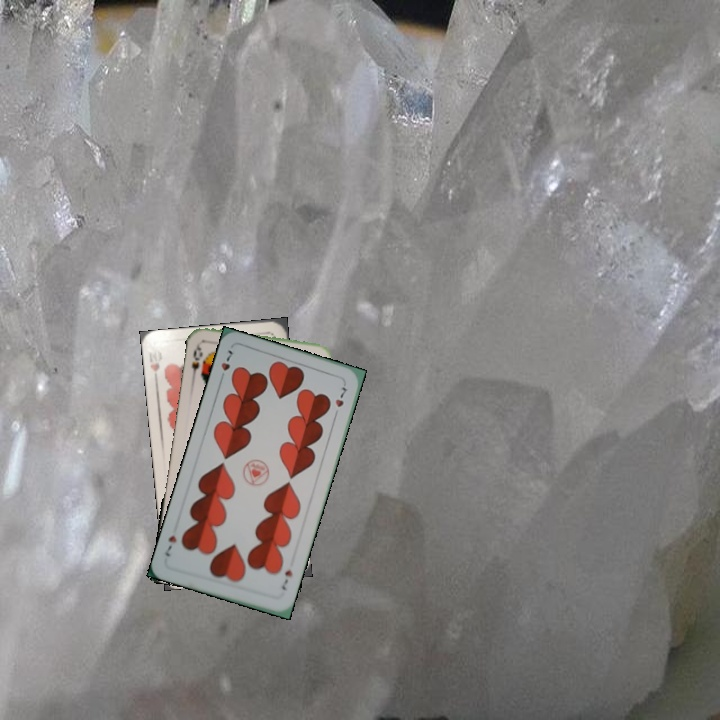H10: (146, 358, 162, 385)
H7: (216, 346, 237, 384), (278, 566, 295, 593)
SO: (187, 340, 205, 381)
